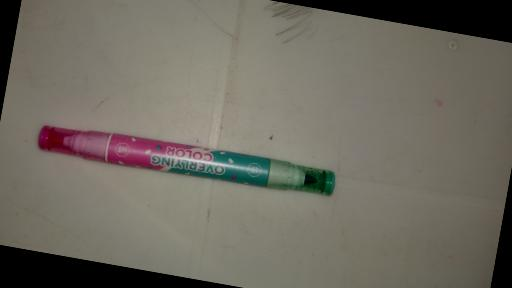Highlighter: (37, 116, 337, 202)
